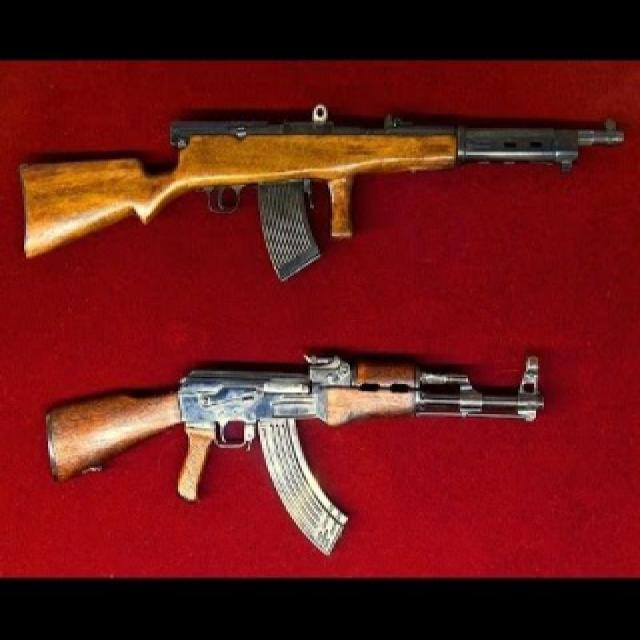weapon: (6, 104, 630, 282), (46, 348, 546, 558)
